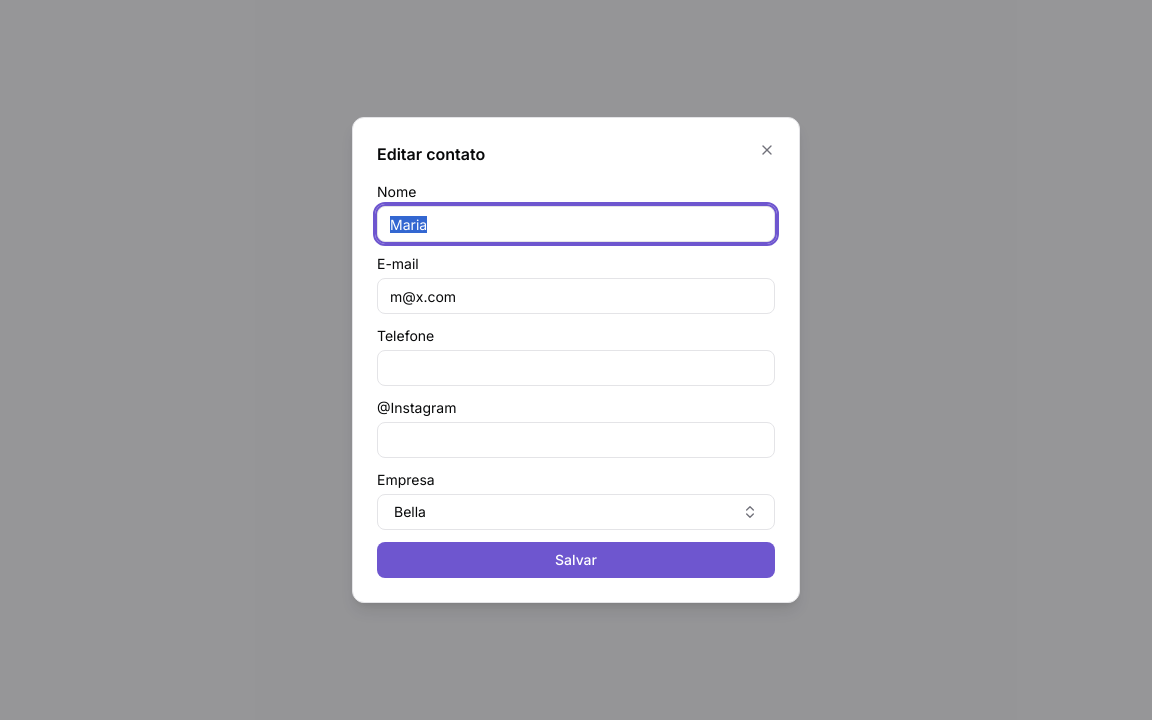
it: ContactFormDialog › shows a 400 e-mail error under the e-mail field
Click the button "Salvar". click: x=576, y=560
box: [377,542,775,578]
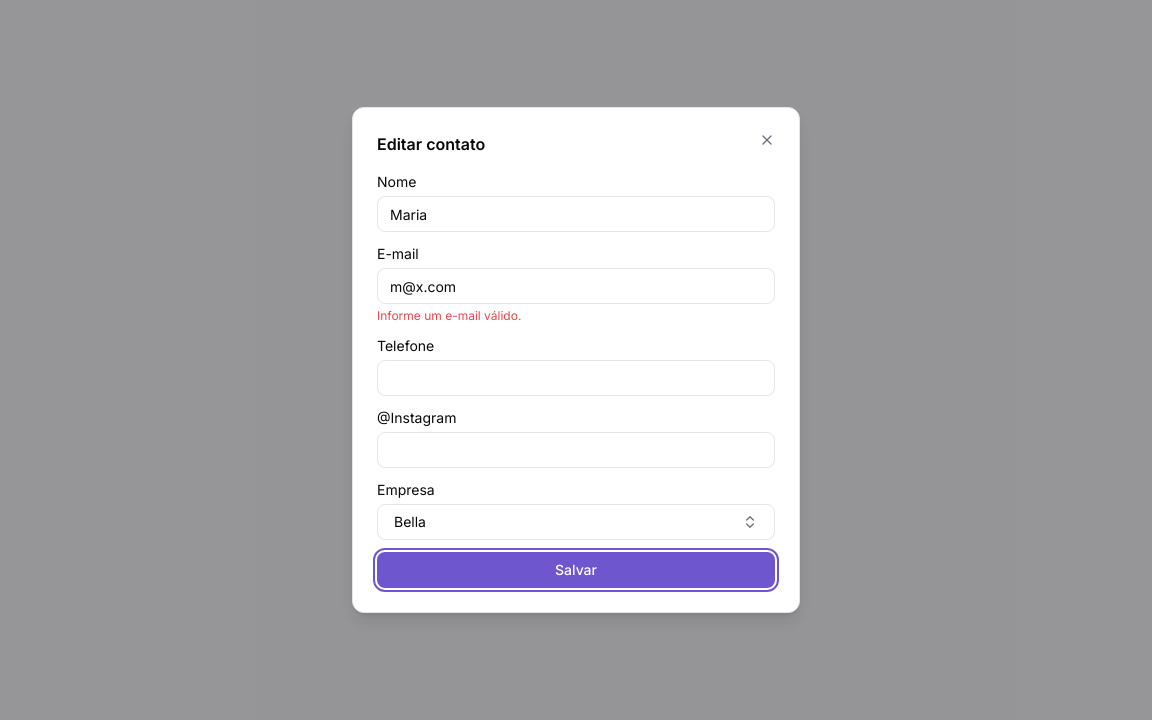
Result: the text "Informe um e-mail válido." is shown at [377,308,521,323]
